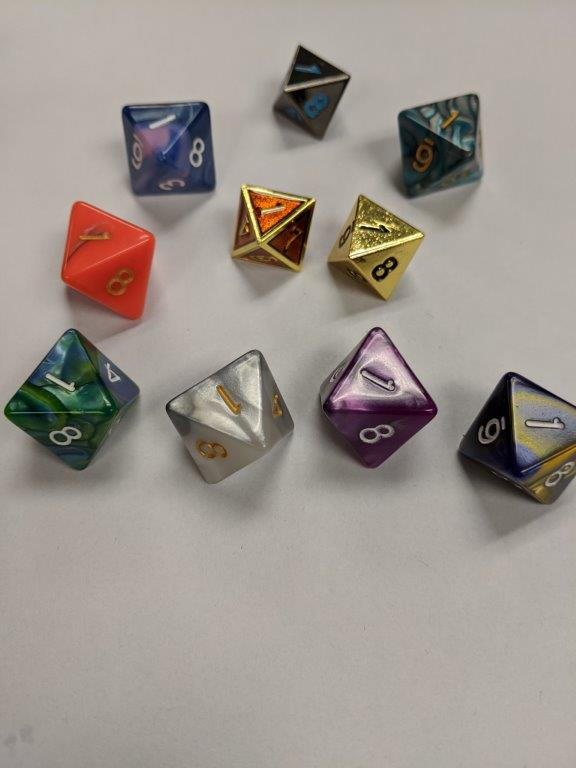d8-1: (1, 327, 141, 469), (164, 347, 294, 483), (317, 327, 438, 470), (459, 370, 576, 505), (60, 202, 157, 325), (326, 195, 425, 299), (398, 92, 486, 204), (120, 101, 219, 195), (227, 182, 318, 274), (270, 45, 351, 140)
